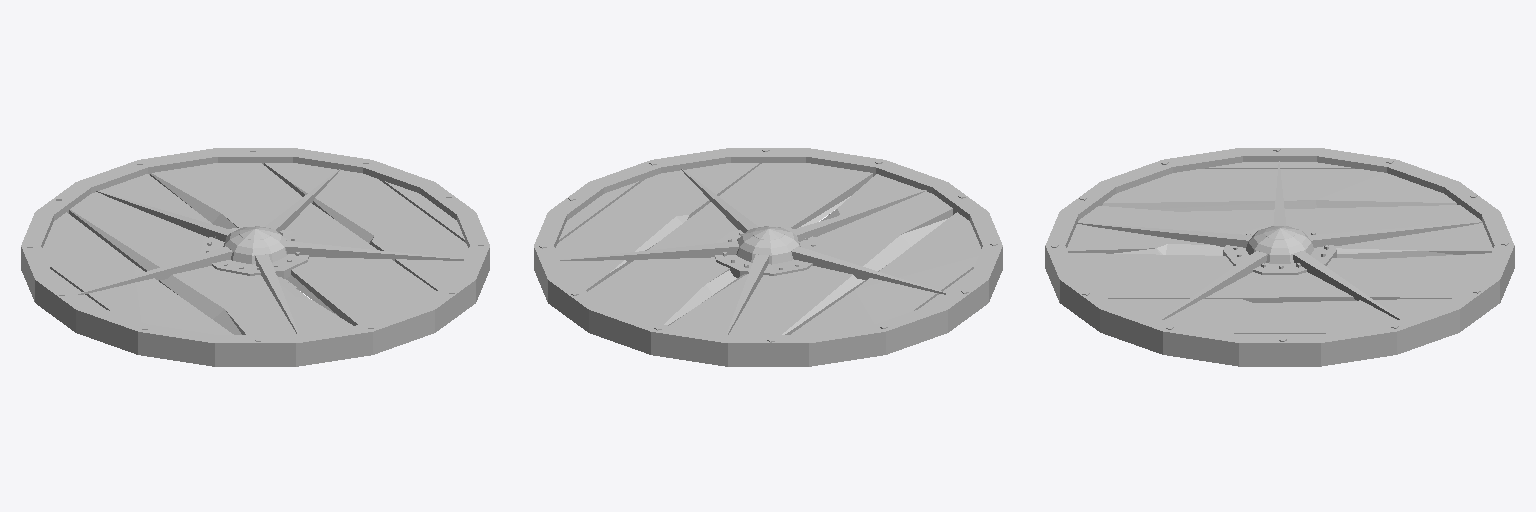
The model's file is Shield_4.obj.
3 renders of one model, left to right at view 1: azimuth 30°, elevation 25°; view 2: azimuth 150°, elevation 25°; view 3: azimuth 270°, elevation 25°, orthographic.
Parts seen in each view (by area): view 1: Shield_4; view 2: Shield_4; view 3: Shield_4.
Part boxes in pixels (bbox=[...]): Shield_4: bbox=[21, 148, 489, 366]; Shield_4: bbox=[534, 148, 1002, 366]; Shield_4: bbox=[1045, 148, 1514, 366].
Size of the model in its own units: 0.9064 by 0.1184 by 0.9186.